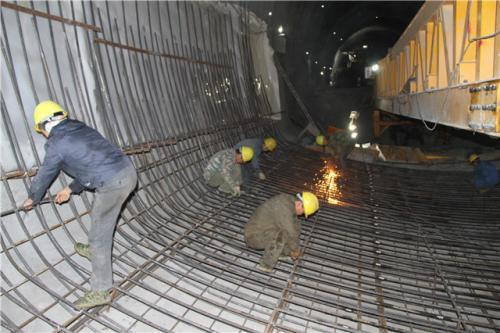helmet: (30, 97, 67, 136), (292, 188, 321, 218), (232, 143, 256, 165), (259, 134, 282, 155), (465, 150, 484, 168), (312, 132, 333, 148)
